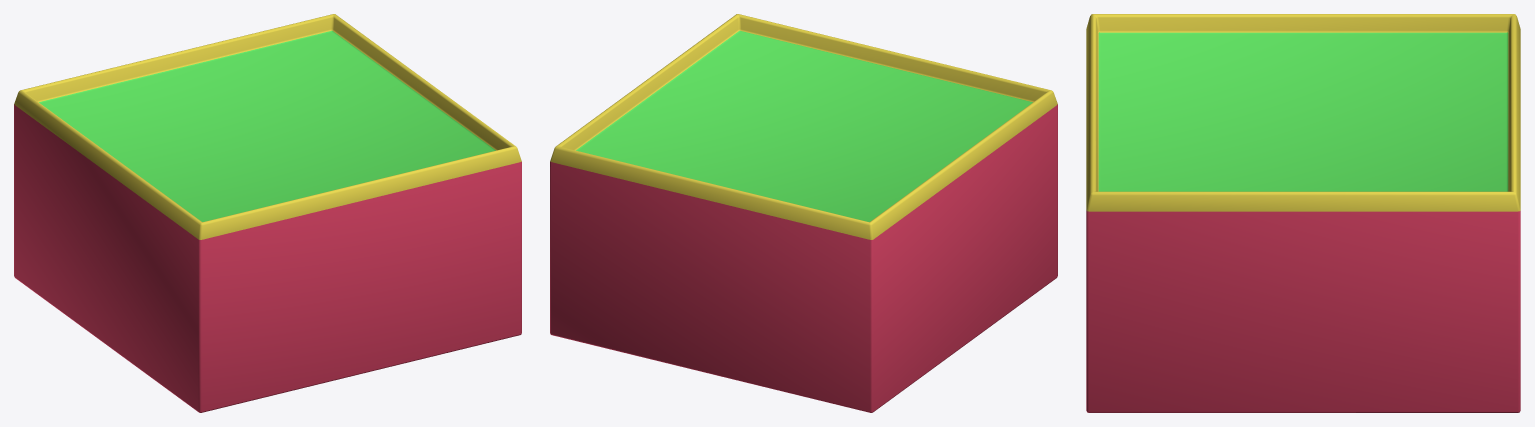
The model's file is room.fbx.
3 renders of one model, left to right at view 1: azimuth 30°, elevation 25°; view 2: azimuth 150°, elevation 25°; view 3: azimuth 270°, elevation 25°, orthographic. The views are drawn at different scales.
Parts seen in each view (by area): view 1: Cube; view 2: Cube; view 3: Cube.
Part boxes in pixels (box(x1,y1,x2,y2)): Cube: box(14, 14, 521, 412); Cube: box(550, 14, 1057, 412); Cube: box(1086, 14, 1520, 412).
Bounding box in the file's own units: 200 × 111 × 200.
